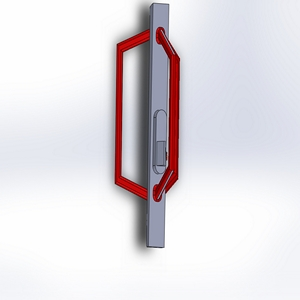submarine: (104, 1, 204, 269)
